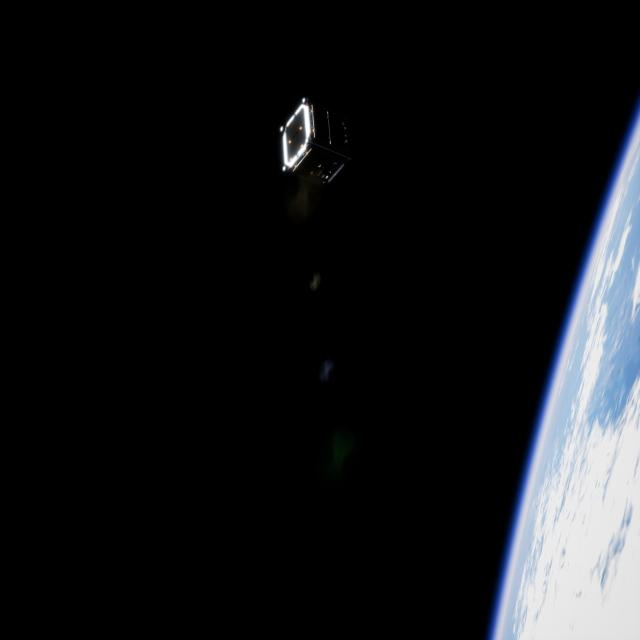satellite: (277, 95, 365, 191)
